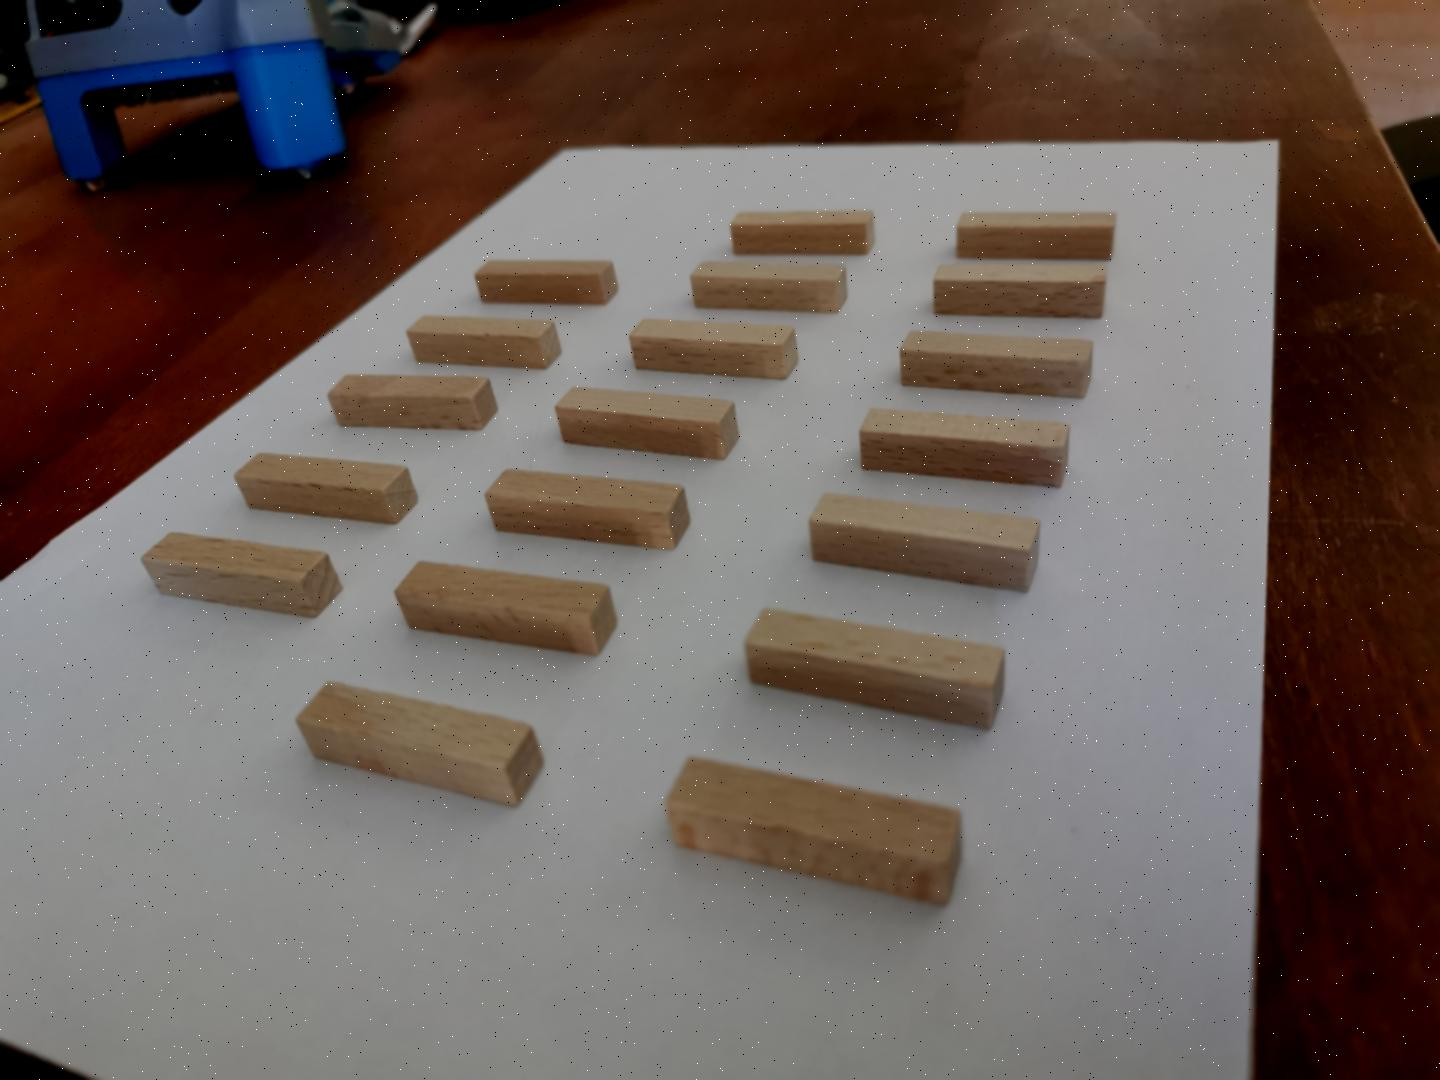jenga: (667, 757, 962, 903), (745, 610, 1005, 728), (298, 681, 543, 804), (810, 492, 1041, 591), (397, 563, 616, 656), (141, 532, 344, 616), (861, 407, 1069, 487), (486, 470, 689, 548), (557, 388, 739, 458), (234, 453, 416, 523), (900, 332, 1091, 397), (630, 318, 798, 380), (329, 374, 498, 430), (934, 264, 1106, 318), (408, 315, 562, 369), (692, 262, 847, 312), (956, 213, 1117, 259), (731, 211, 874, 256), (475, 262, 619, 304)
